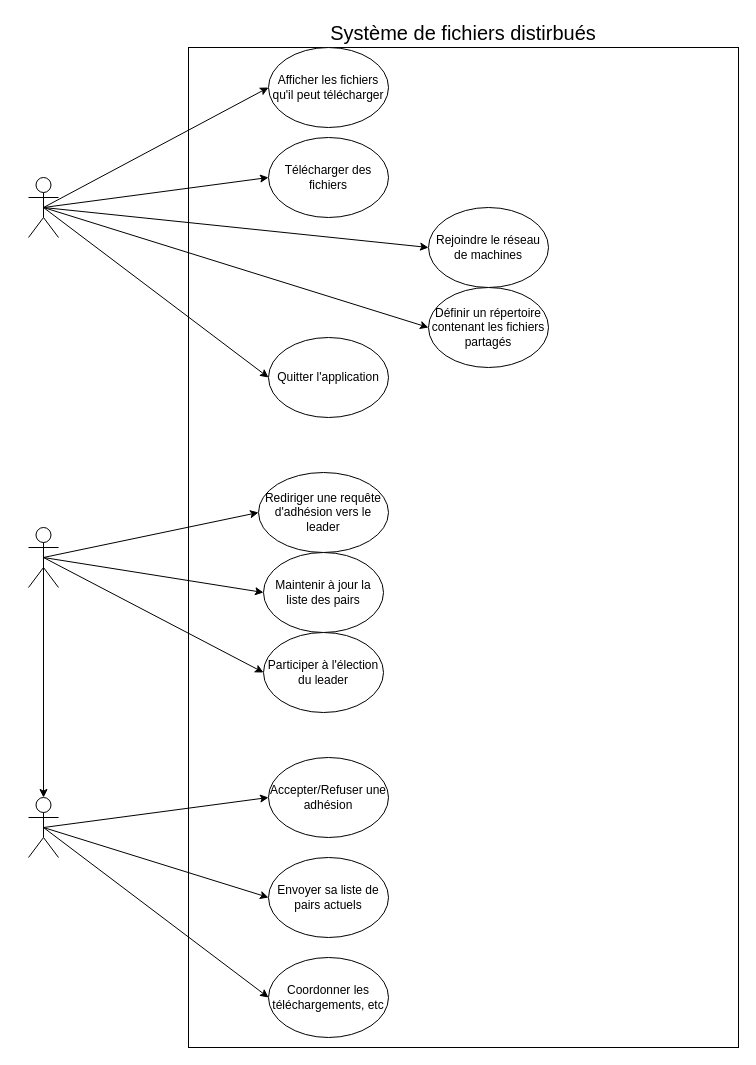
The diagram is 756 pixels wide and 1065 high, and some of its shapes have lost their labels. Here are the shapes that lost their labels. From the top down, the box of each, then its label:
(28, 176, 58, 238): Utilisateur
(28, 526, 58, 588): Client
(28, 796, 58, 858): Leader
